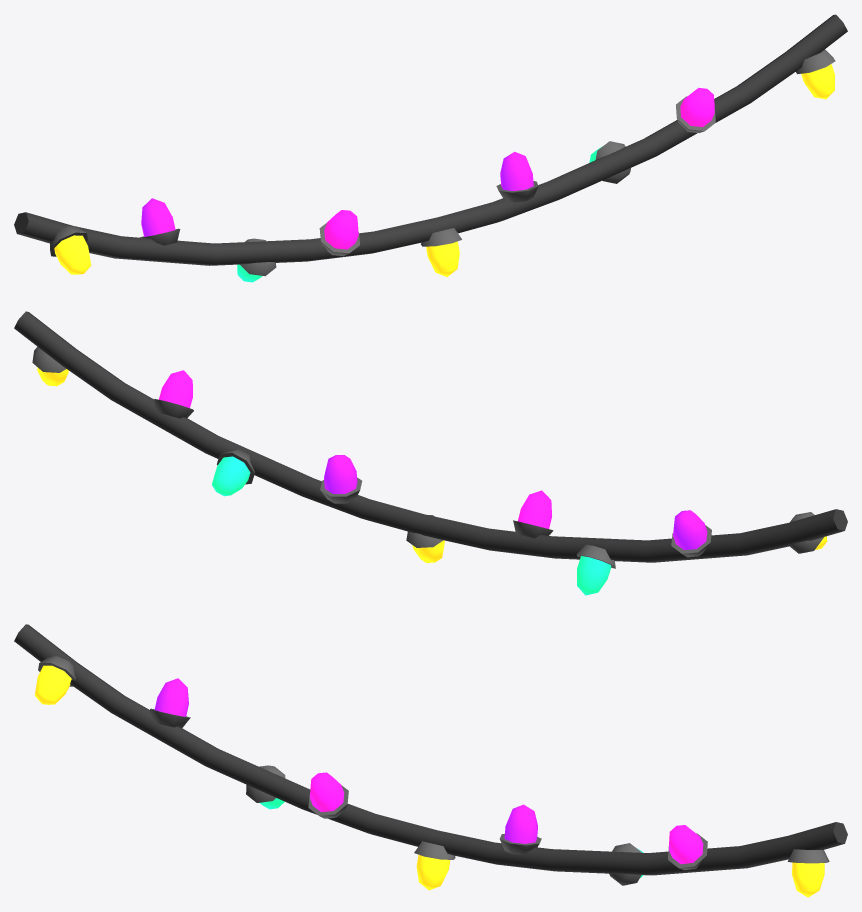
File: Christmas Lights.fbx
3 views of the same model, one above another, from view 1: azimuth 30°, elevation 25°; view 2: azimuth 150°, elevation 25°; view 3: azimuth 330°, elevation 25° (orthographic).
Visible parts, largest first — view 1: Christmas Lights.002; view 2: Christmas Lights.002; view 3: Christmas Lights.002.
Part boxes in pixels (x1,y1,x2,y2): Christmas Lights.002: (14,14,847,282); Christmas Lights.002: (14,311,847,595); Christmas Lights.002: (14,624,847,897).
Bounding box in the file's own units: 191 × 35.04 × 17.9.
